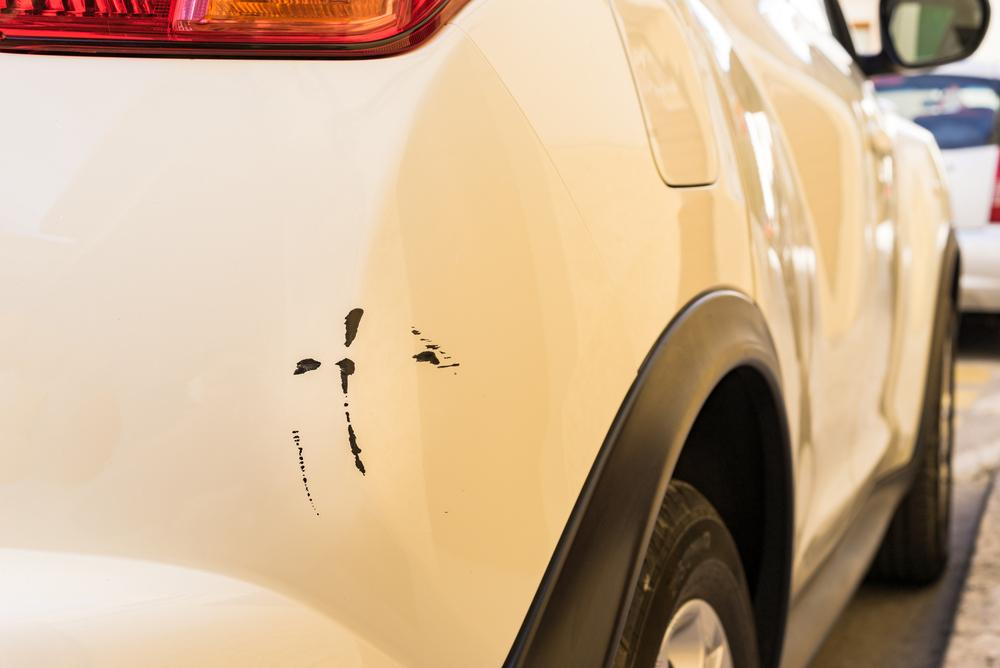scratch: (285, 296, 384, 523), (406, 324, 470, 379)
